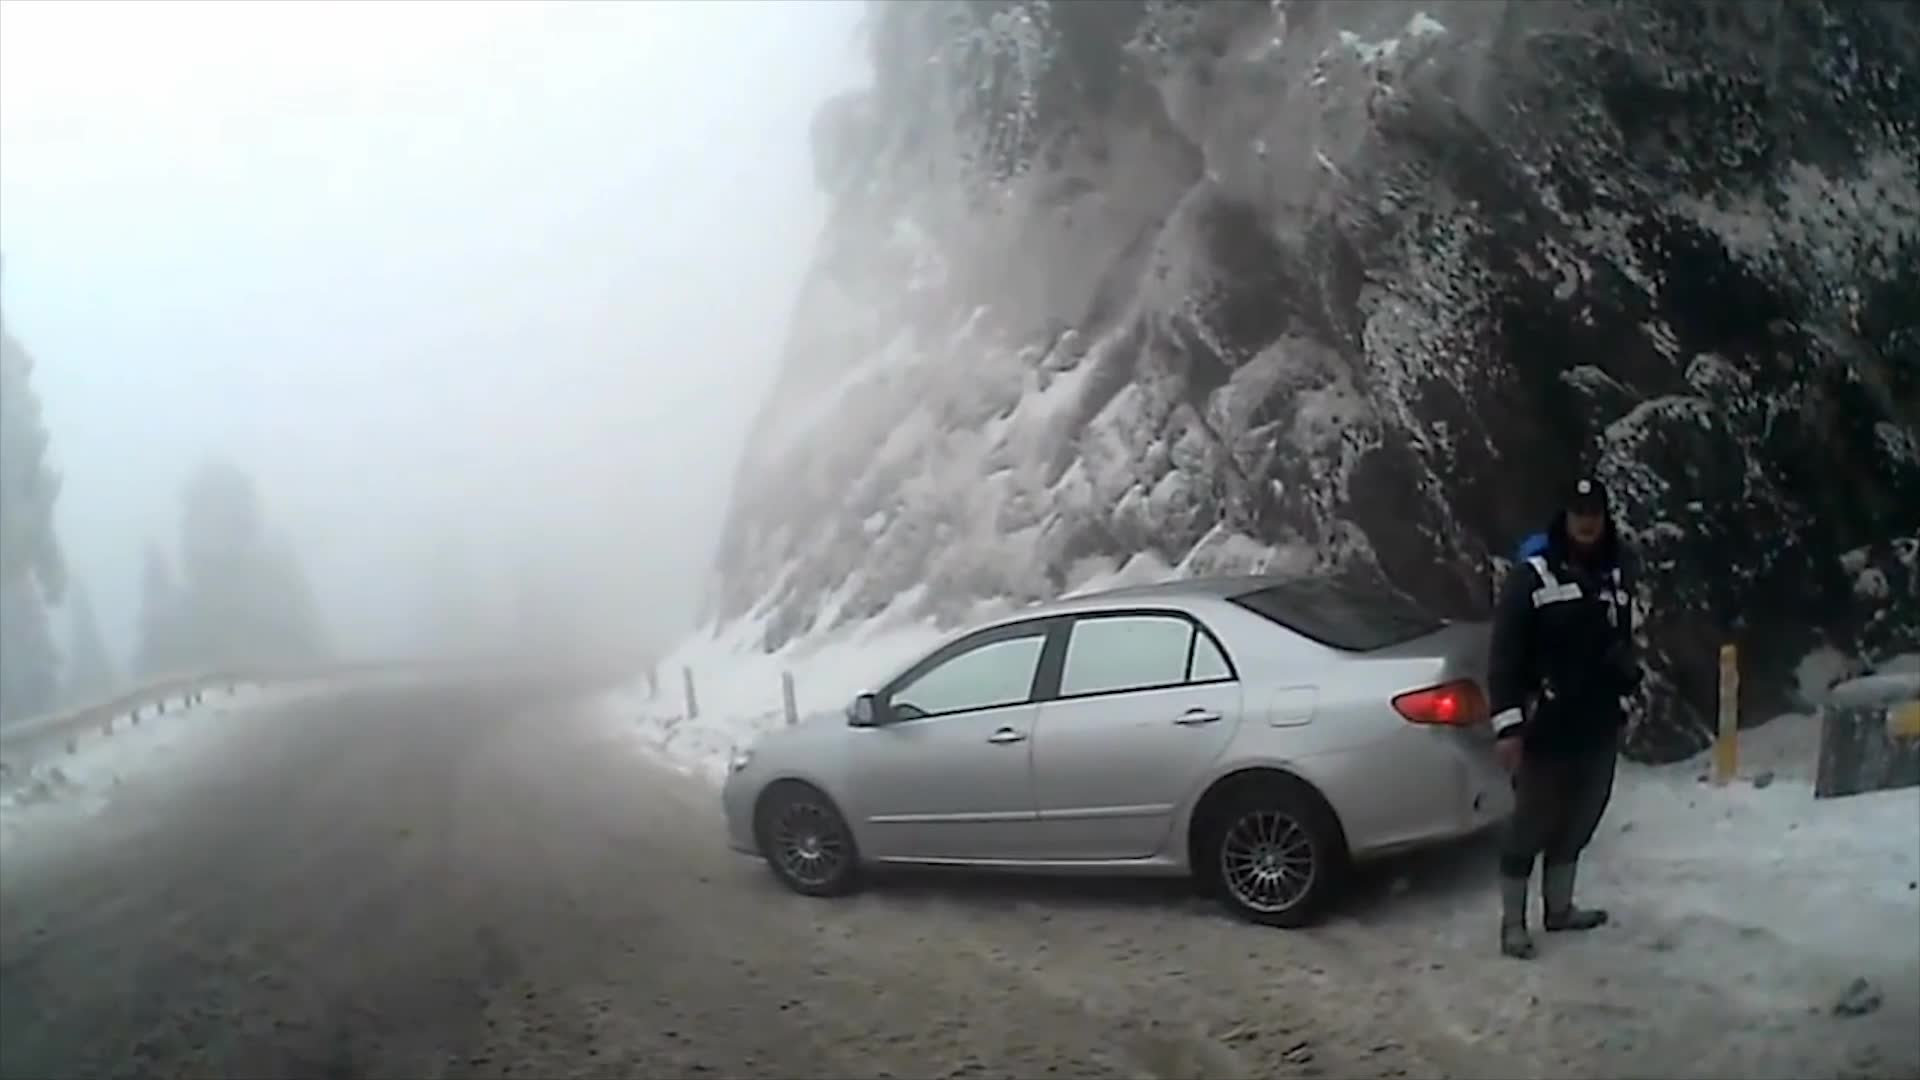pedestrian: (1481, 478, 1645, 963)
vehicle: (717, 572, 1581, 926)
